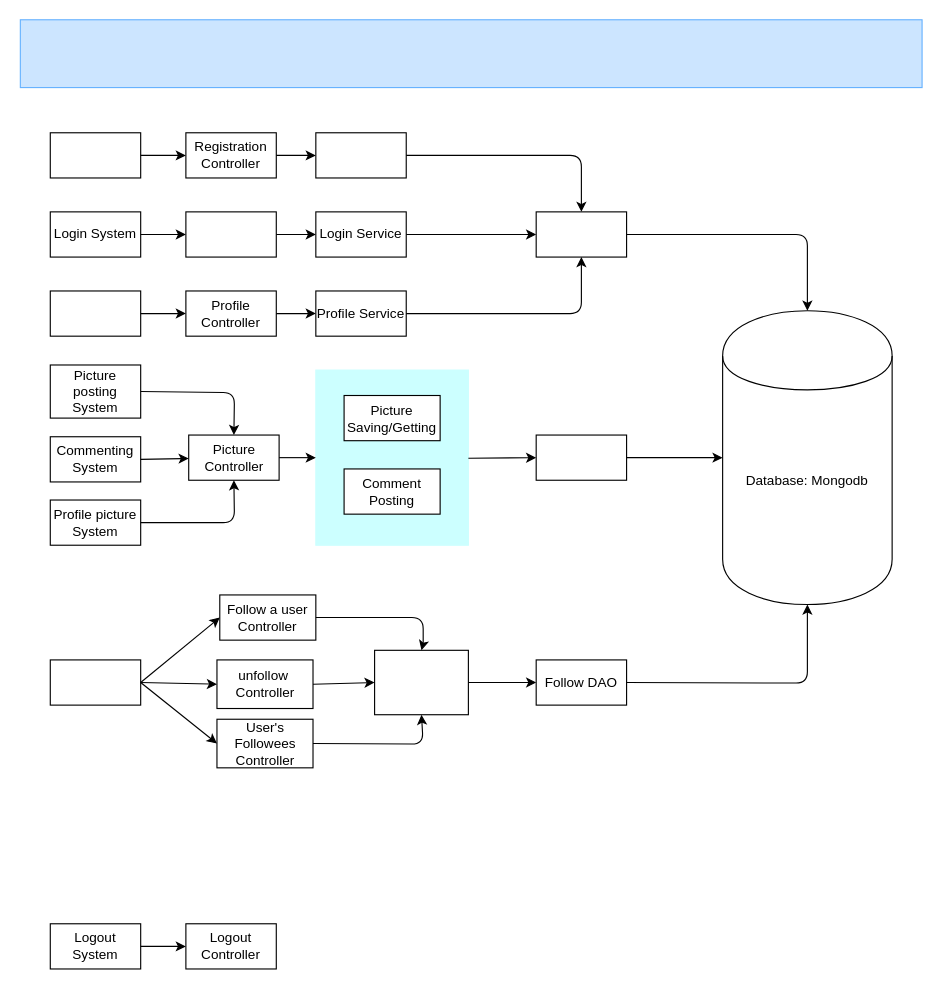
Image size: 941x989. Some labels were removed from this diagram. Each missing label, with the box of its shape:
API Architecture: (19, 19, 922, 88)
Follow User System: (49, 659, 141, 705)
Followers Service: (373, 649, 468, 715)
Login Controller: (185, 211, 276, 257)
Picture DAO: (535, 434, 627, 480)
Profile System: (49, 290, 141, 336)
Registration Service: (315, 132, 406, 178)
Registration System: (49, 132, 141, 178)
User DAO: (535, 211, 627, 257)
